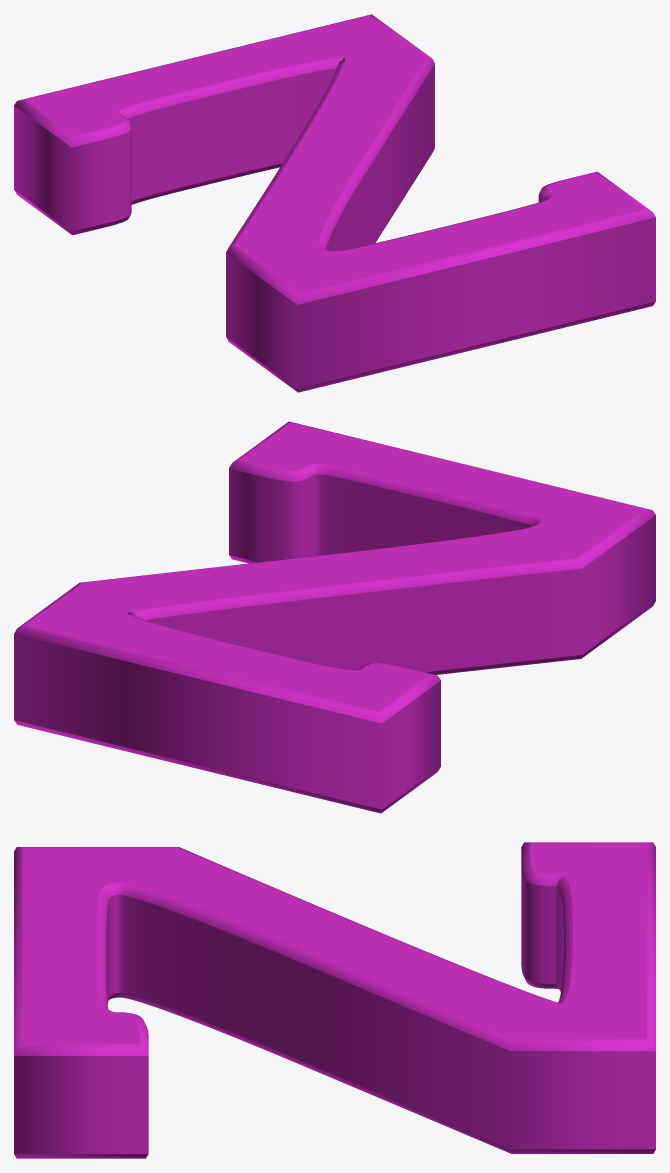
File: Letter_Z_Capital_CoolFont.fbx
3 views of the same model, one above another, from view 1: azimuth 30°, elevation 25°; view 2: azimuth 150°, elevation 25°; view 3: azimuth 270°, elevation 25° (orthographic). The views are drawn at different scales.
Visible parts, largest first — view 1: Letter_Z; view 2: Letter_Z; view 3: Letter_Z.
Boxes of the visible parts, bbox=[...] form: Letter_Z: bbox=[14, 14, 655, 392]; Letter_Z: bbox=[14, 421, 655, 813]; Letter_Z: bbox=[14, 842, 655, 1158].
Bounding box in the file's own units: 0.5478 × 0.14 × 0.712.
